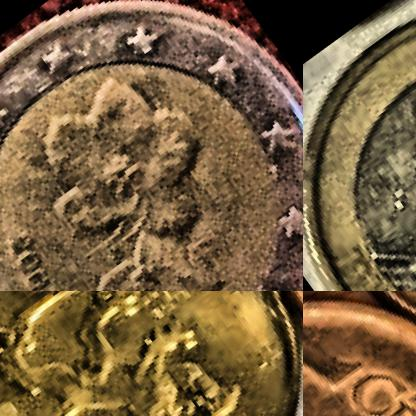coin: (0, 0, 302, 290), (0, 291, 302, 415), (303, 0, 415, 290), (303, 291, 415, 415)
